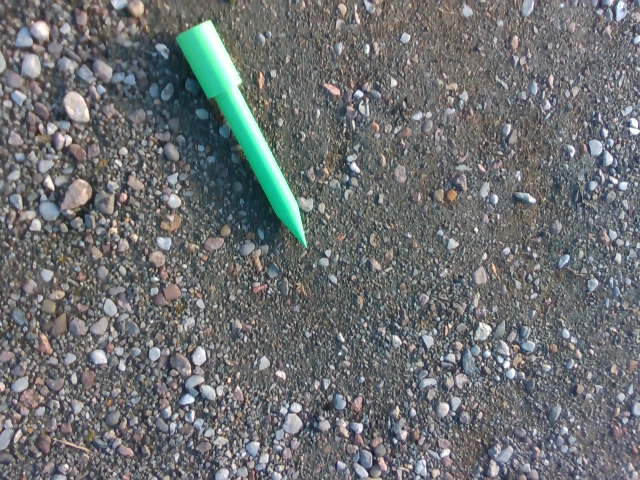Probe: (169, 13, 315, 256)
